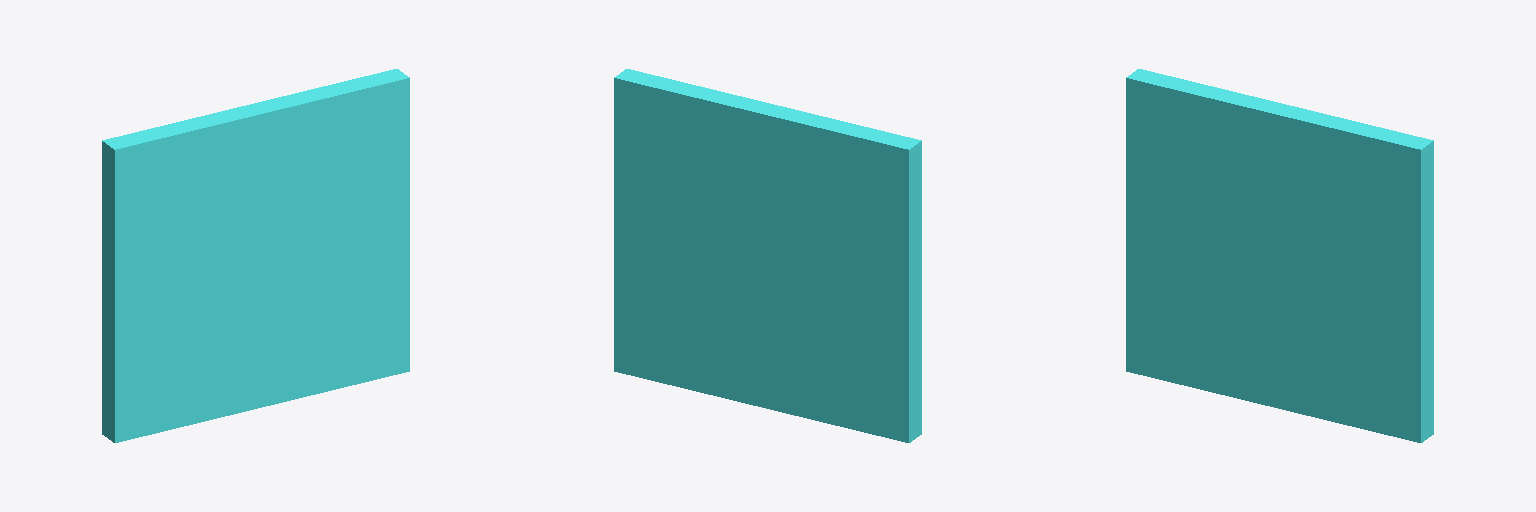
The picture shows the model from 3 angles: view 1: azimuth 30°, elevation 25°; view 2: azimuth 150°, elevation 25°; view 3: azimuth 330°, elevation 25°; orthographic projection.
Parts seen in each view (by area): view 1: object 1; view 2: object 1; view 3: object 1.
Part boxes in pixels (left/top/right/bottom): object 1: left=102, top=69, right=409, bottom=442; object 1: left=614, top=69, right=921, bottom=442; object 1: left=1126, top=69, right=1433, bottom=442.
Size of the model in its own units: 4 by 3.8 by 0.3.
1 materials, 1 textured.